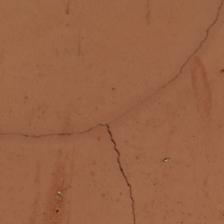Crack: (14, 0, 125, 106), (56, 11, 93, 110), (102, 38, 131, 158)
